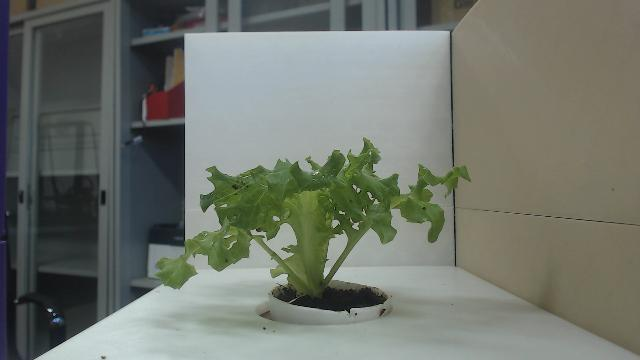Vegetative Stage: (153, 135, 473, 302)
